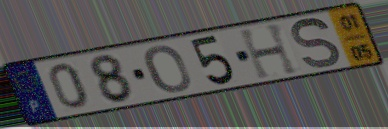0: (47, 61, 94, 112)
5: (188, 33, 236, 87)
8: (88, 54, 137, 105)
H: (236, 20, 303, 81)
O: (143, 43, 194, 95)
S: (290, 16, 343, 70)
